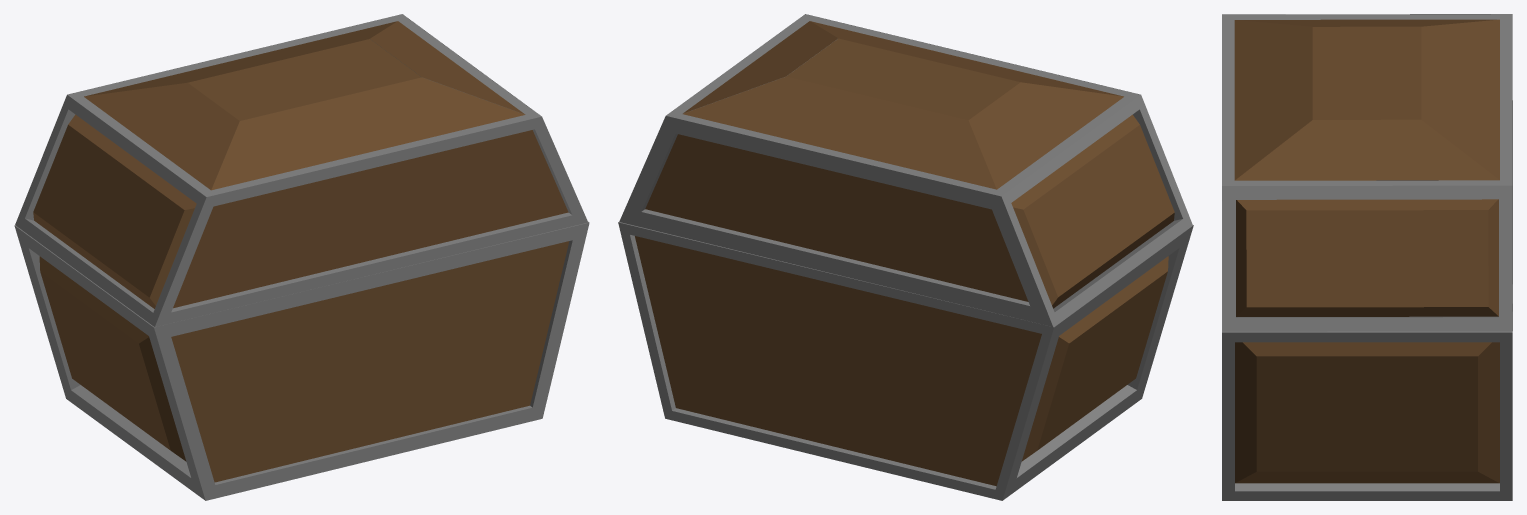
File: chest.fbx
3 views of the same model, side by side, from view 1: azimuth 30°, elevation 25°; view 2: azimuth 150°, elevation 25°; view 3: azimuth 270°, elevation 25° (orthographic). The views are drawn at different scales.
Parts seen in each view (by area): view 1: Cube_1, Cube; view 2: Cube_1, Cube; view 3: Cube_1, Cube.
Boxes of the visible parts, left/top/right/bottom form: Cube_1: left=15, top=14, right=588, bottom=326; Cube: left=14, top=221, right=589, bottom=500; Cube_1: left=619, top=14, right=1192, bottom=326; Cube: left=618, top=222, right=1193, bottom=500; Cube_1: left=1222, top=14, right=1512, bottom=331; Cube: left=1222, top=201, right=1512, bottom=500.
Size of the model in its own units: 360 by 260 by 200.
